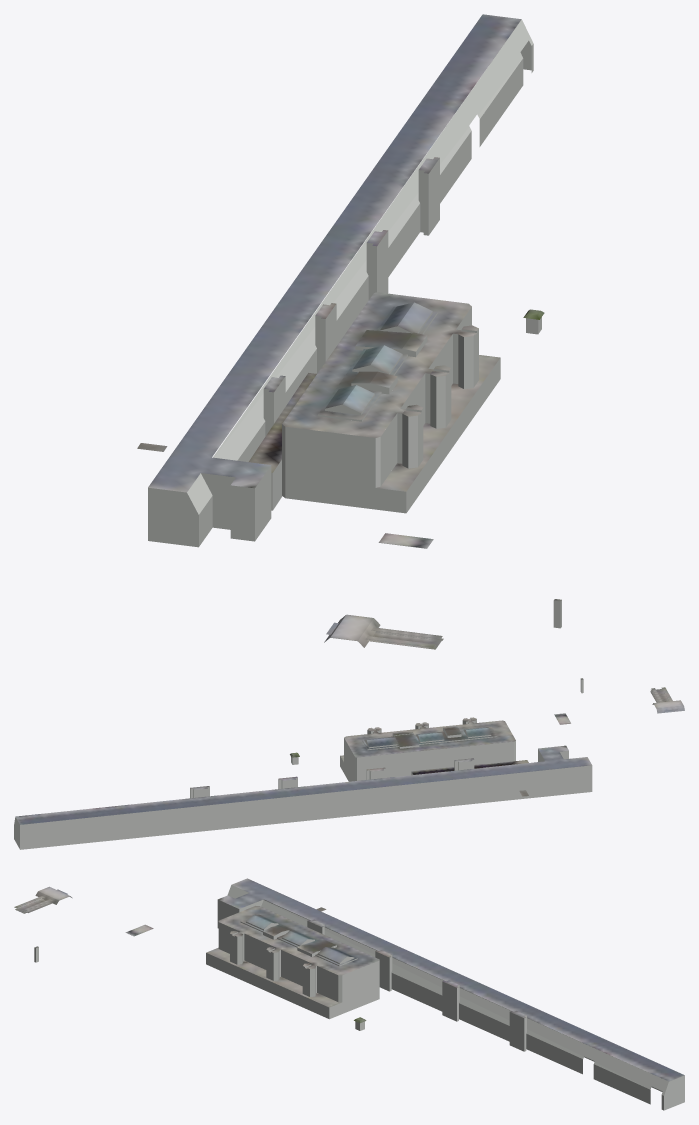
File: LSGG_0_-2.glb
3 views of the same model, one above another, from view 1: azimuth 30°, elevation 25°; view 2: azimuth 150°, elevation 25°; view 3: azimuth 270°, elevation 25° (orthographic). The views are drawn at different scales.
Parts seen in each view (by area): view 1: building_35bf6d2f55bab115, building_e94d245797851117, building_a9ed958d1bd9896b, building_07d54d836ebb3938, building_2330e95c9f89a0e0, building_ff579b7fabcb1caf, building_5301bbe20b23afaa; view 2: building_07d54d836ebb3938, building_35bf6d2f55bab115, building_e94d245797851117, building_a9ed958d1bd9896b, building_2330e95c9f89a0e0, building_ff579b7fabcb1caf; view 3: building_35bf6d2f55bab115, building_e94d245797851117, building_07d54d836ebb3938, building_a9ed958d1bd9896b, building_2330e95c9f89a0e0.
Part boxes in pixels (x1,y1,x2,y2): building_35bf6d2f55bab115: (148,14,533,514); building_e94d245797851117: (282,304,541,513); building_a9ed958d1bd9896b: (282,292,544,491); building_07d54d836ebb3938: (148,40,533,547); building_2330e95c9f89a0e0: (324,533,561,649); building_ff579b7fabcb1caf: (137,373,316,472); building_5301bbe20b23afaa: (263,376,285,510); building_07d54d836ebb3938: (14,749,592,849); building_35bf6d2f55bab115: (15,745,591,824); building_e94d245797851117: (291,718,515,781); building_a9ed958d1bd9896b: (290,717,515,771); building_2330e95c9f89a0e0: (554,678,684,724); building_ff579b7fabcb1caf: (411,758,528,796); building_35bf6d2f55bab115: (218,878,684,1095); building_e94d245797851117: (206,921,392,1030); building_07d54d836ebb3938: (217,899,684,1110); building_a9ed958d1bd9896b: (206,906,391,1023); building_2330e95c9f89a0e0: (14,886,153,947).
Bounding box in the file's own units: 395 × 41.99 × 548.
2 materials, 1 textured.
